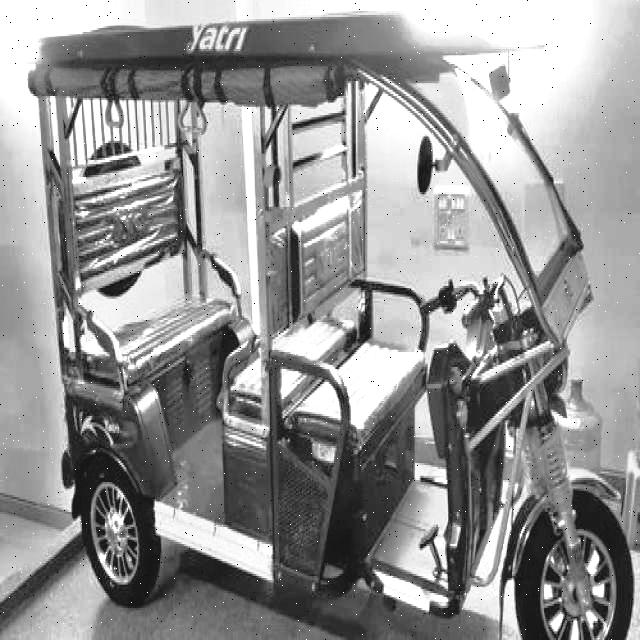Toto: (29, 16, 627, 640)
